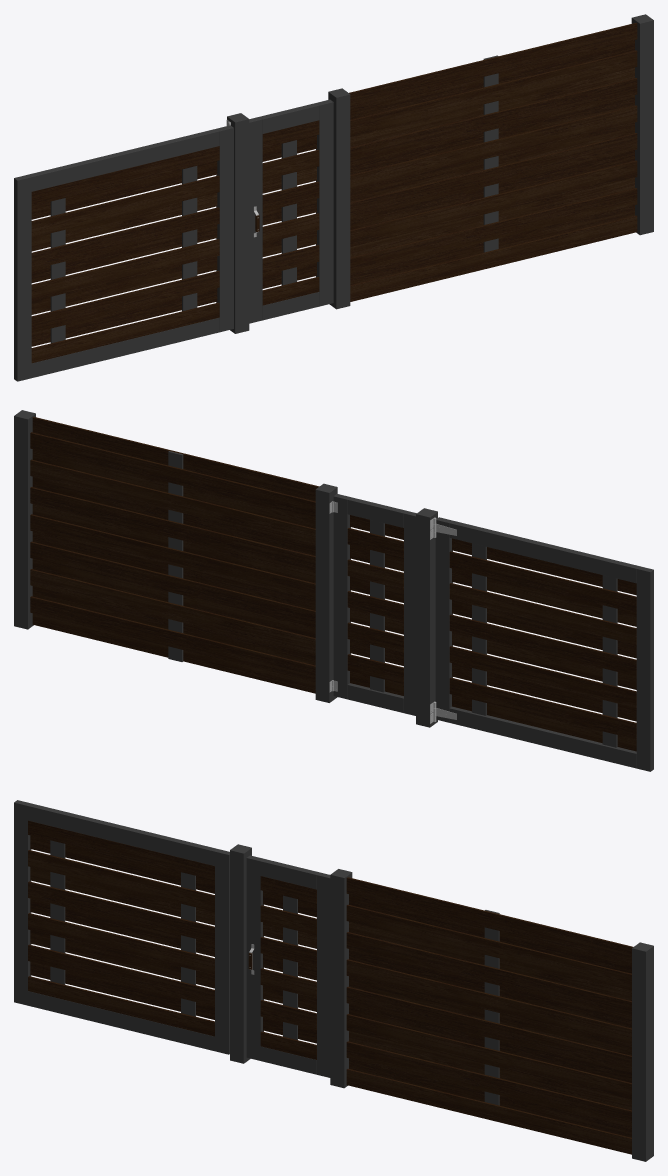
Rendered from A23DMOD_FBX.fbx.
3 renders of one model, top to bottom at view 1: azimuth 30°, elevation 25°; view 2: azimuth 150°, elevation 25°; view 3: azimuth 330°, elevation 25°, orthographic.
Visible parts, largest first — view 1: A23DOBJ_001; view 2: A23DOBJ_001; view 3: A23DOBJ_001.
Part boxes in pixels (left/top/right/bottom): A23DOBJ_001: left=14, top=14, right=653, bottom=381; A23DOBJ_001: left=14, top=410, right=653, bottom=771; A23DOBJ_001: left=14, top=800, right=653, bottom=1161.
Bounding box in the file's own units: 1598 × 508 × 41.17.
Materials: 3 (3 with a texture image).
